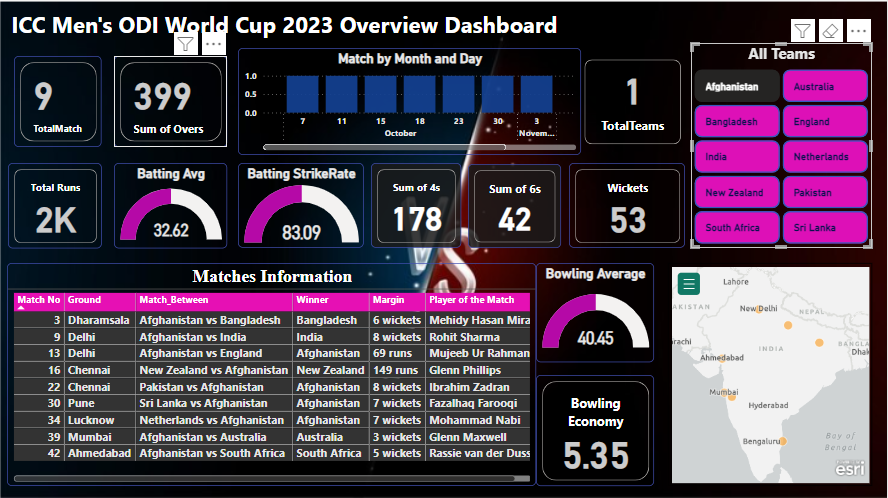

The dashboard page shown, as its layout file describes it:
{"tool":"powerbi","page":{"name":"ICC World Cup 2023 Overall Tournament Overview","canvas":[1280,720],"ordinal":0},"visuals":[{"type":"cardVisual","fields":{"Data":["Sum(bowling_summary.Overs)"]},"box":[165.9,84.1,162.5,130.7],"z":0},{"type":"cardVisual","fields":{"Data":["Key_Measures.wickets"]},"box":[820.8,237.6,167,122.4],"z":1000},{"type":"cardVisual","fields":{"Data":["Key_Measures.Total Runs"]},"box":[12.5,237.5,135.2,122.7],"z":2000},{"type":"lineClusteredColumnComboChart","title":"Match by Month and Day","fields":{"Category":["matches_schedule_results.Date.Variation.Date Hierarchy.Month","matches_schedule_results.Date.Variation.Date Hierarchy.Day"],"Y":["CountNonNull(matches_schedule_results.Match No)"]},"box":[344.2,72,493.9,154.1],"z":3000},{"type":"tableEx","title":"     Matches Information","fields":{"Values":["matches_schedule_results.Match No","matches_schedule_results.Ground","batting_summary_out.Match_Between","matches_schedule_results.Winner","matches_schedule_results.Margin","matches_schedule_results.Player of the Match"]},"box":[11.5,381.6,761.8,321.1],"z":4000},{"type":"advancedSlicerVisual","title":"All Teams","fields":{"Values":["world_cup_players_info.team_name"]},"box":[996.5,64.8,260.6,295.2],"z":5000},{"type":"cardVisual","title":"4s","fields":{"Data":["Sum(batting_summary_out.4s)"]},"box":[535.7,237.6,129.6,122.4],"z":6000},{"type":"cardVisual","fields":{"Data":["Sum(batting_summary_out.6s)"]},"box":[675.4,239,133.9,121],"z":7000},{"type":"cardVisual","fields":{"Data":["Key_Measures.TotalTeams"]},"box":[838.1,83.5,149.8,132.5],"z":8000},{"type":"cardVisual","fields":{"Data":["Key_Measures.TotalMatchesCount"]},"box":[21.6,84.1,126.1,130.7],"z":9000},{"type":"cardVisual","fields":{"Data":["Key_Measures.Economy"]},"box":[773.1,543.3,170.1,159.7],"z":10000},{"type":"gauge","fields":{"Y":["Key_Measures.Bowling Average"]},"box":[773.3,381.6,169.9,142.6],"z":11000},{"type":"gauge","fields":{"Y":["Key_Measures.Batting Avg"]},"box":[165.9,237.5,162.5,122.7],"z":12000},{"type":"gauge","fields":{"Y":["Key_Measures.Strike rate"]},"box":[344.2,237.6,181.4,122.4],"z":13000},{"type":"textbox","box":[12.5,10.2,808,54.5],"z":14000},{"type":"esriVisual","fields":{"Location":["matches_schedule_results.Ground"]},"box":[963.4,381.6,293.8,321.1],"z":15000}]}

Visuals, with their boxes in screenshot pixels (x1, y1, x2, y2), scaled from the page's 1280x720 canvas onto the 888x498 screenshot:
cardVisual - Sum(bowling_summary.Overs): [115, 58, 228, 149]
cardVisual - Key_Measures.wickets: [569, 164, 685, 249]
cardVisual - Key_Measures.Total Runs: [9, 164, 102, 249]
"Match by Month and Day" lineClusteredColumnComboChart: [239, 50, 581, 156]
"     Matches Information" tableEx: [8, 264, 536, 486]
"All Teams" advancedSlicerVisual: [691, 45, 872, 249]
"4s" cardVisual: [372, 164, 462, 249]
cardVisual - Sum(batting_summary_out.6s): [469, 165, 561, 249]
cardVisual - Key_Measures.TotalTeams: [581, 58, 685, 149]
cardVisual - Key_Measures.TotalMatchesCount: [15, 58, 102, 149]
cardVisual - Key_Measures.Economy: [536, 376, 654, 486]
gauge - Key_Measures.Bowling Average: [536, 264, 654, 363]
gauge - Key_Measures.Batting Avg: [115, 164, 228, 249]
gauge - Key_Measures.Strike rate: [239, 164, 365, 249]
textbox: [9, 7, 569, 45]
esriVisual - matches_schedule_results.Ground: [668, 264, 872, 486]
